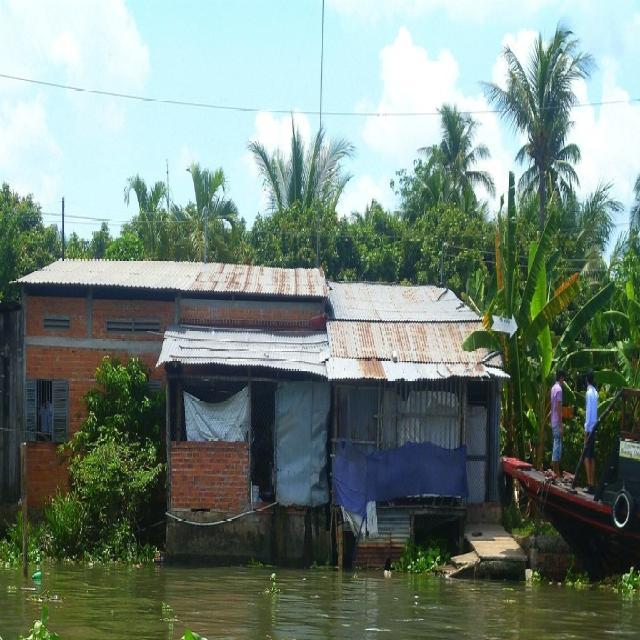Hyacinth: (102, 525, 149, 566), (401, 548, 445, 579), (258, 574, 294, 601), (618, 570, 640, 595), (22, 624, 56, 640), (154, 602, 178, 616)
